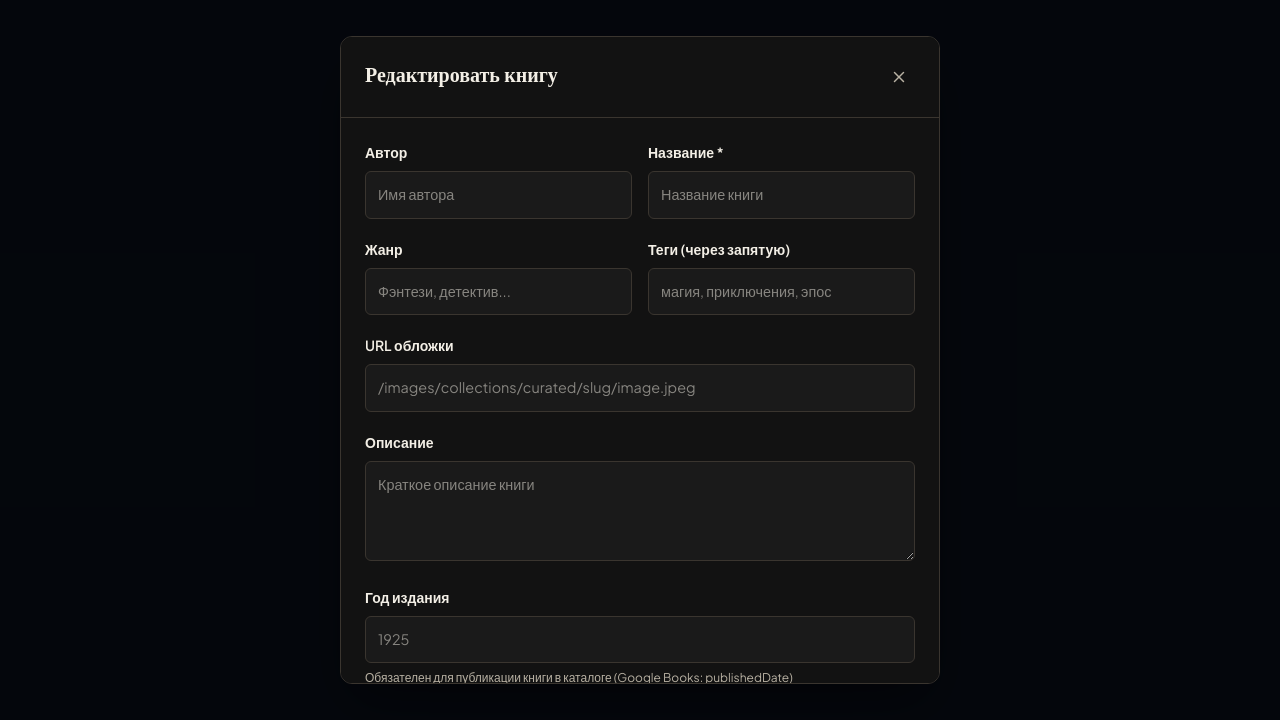
EditBookModal: автопоиск в каталоге › при точном совпадении заполняет пустые поля карточки
The image size is (1280, 720).
In the field with placeholder "Название книги": (782, 195) [648,171,915,219], type "Правда о деле Гарри Квеберта"
(page scrolled)
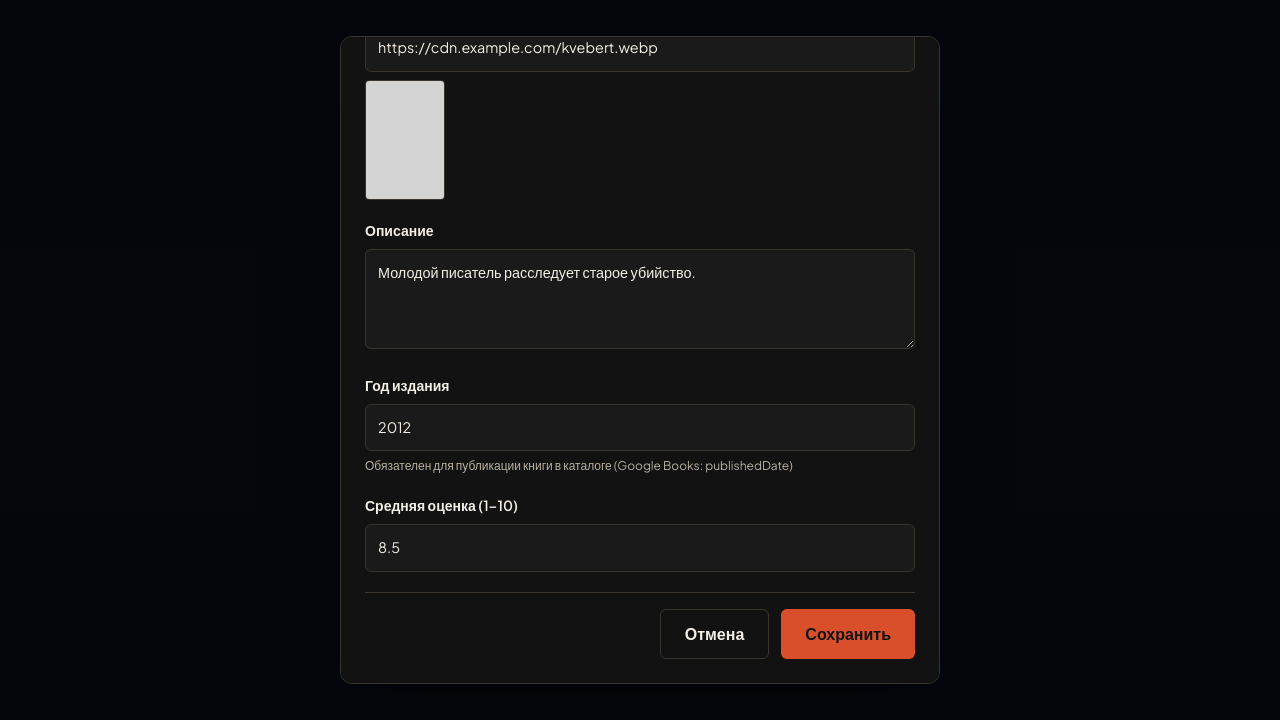
Check: the number field with placeholder "1925" below "Год издания" holds "2012", box [365,404,915,451]
Check: the text box showing "Молодой писатель расследует старое убийство." is shown, box [365,249,915,349]
Check: the field showing "https://cdn.example.com/kvebert.webp" is shown, box [365,36,915,72]
